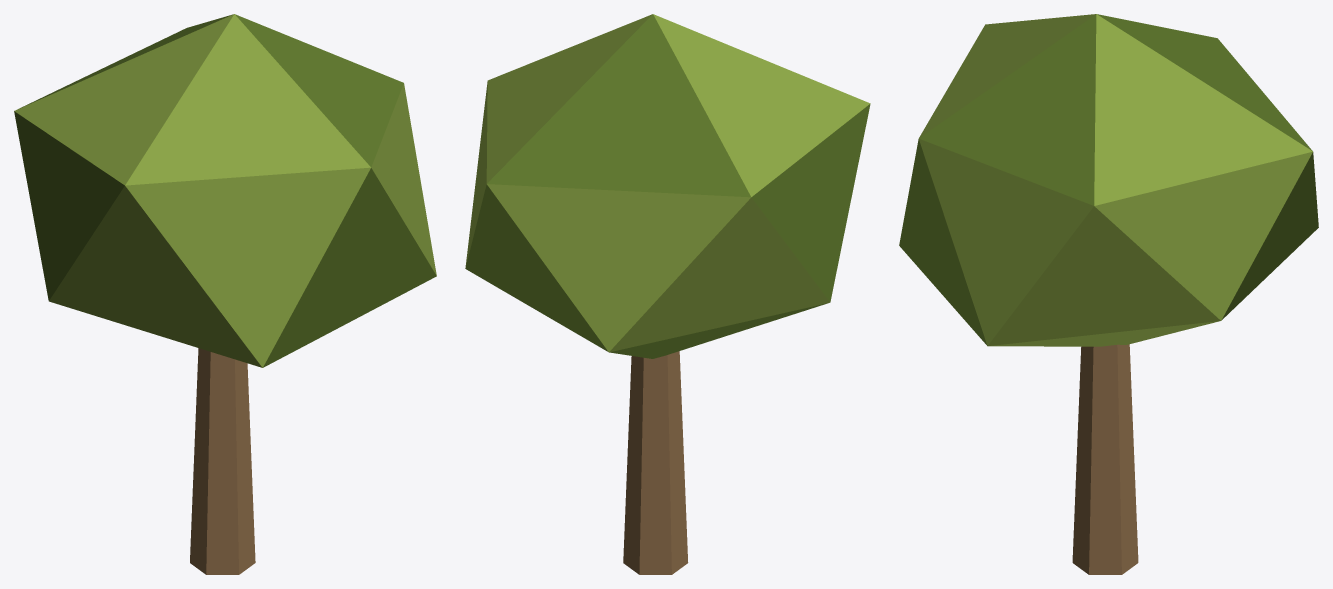
The model's file is decor_tree_round.glb.
3 views of the same model, side by side, from view 1: azimuth 30°, elevation 25°; view 2: azimuth 150°, elevation 25°; view 3: azimuth 270°, elevation 25° (orthographic).
Parts seen in each view (by area): view 1: decor_tree_round; view 2: decor_tree_round; view 3: decor_tree_round.
Part boxes in pixels (x1,y1,x2,y2): decor_tree_round: (14, 14, 436, 574); decor_tree_round: (465, 14, 870, 574); decor_tree_round: (899, 14, 1318, 574).
Bounding box in the file's own units: 0.8632 × 1.29 × 0.8908.
